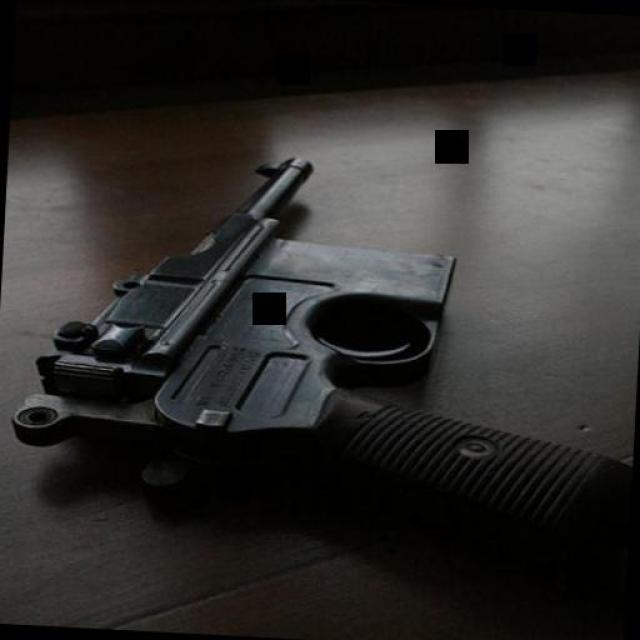gun: (10, 136, 640, 580)
